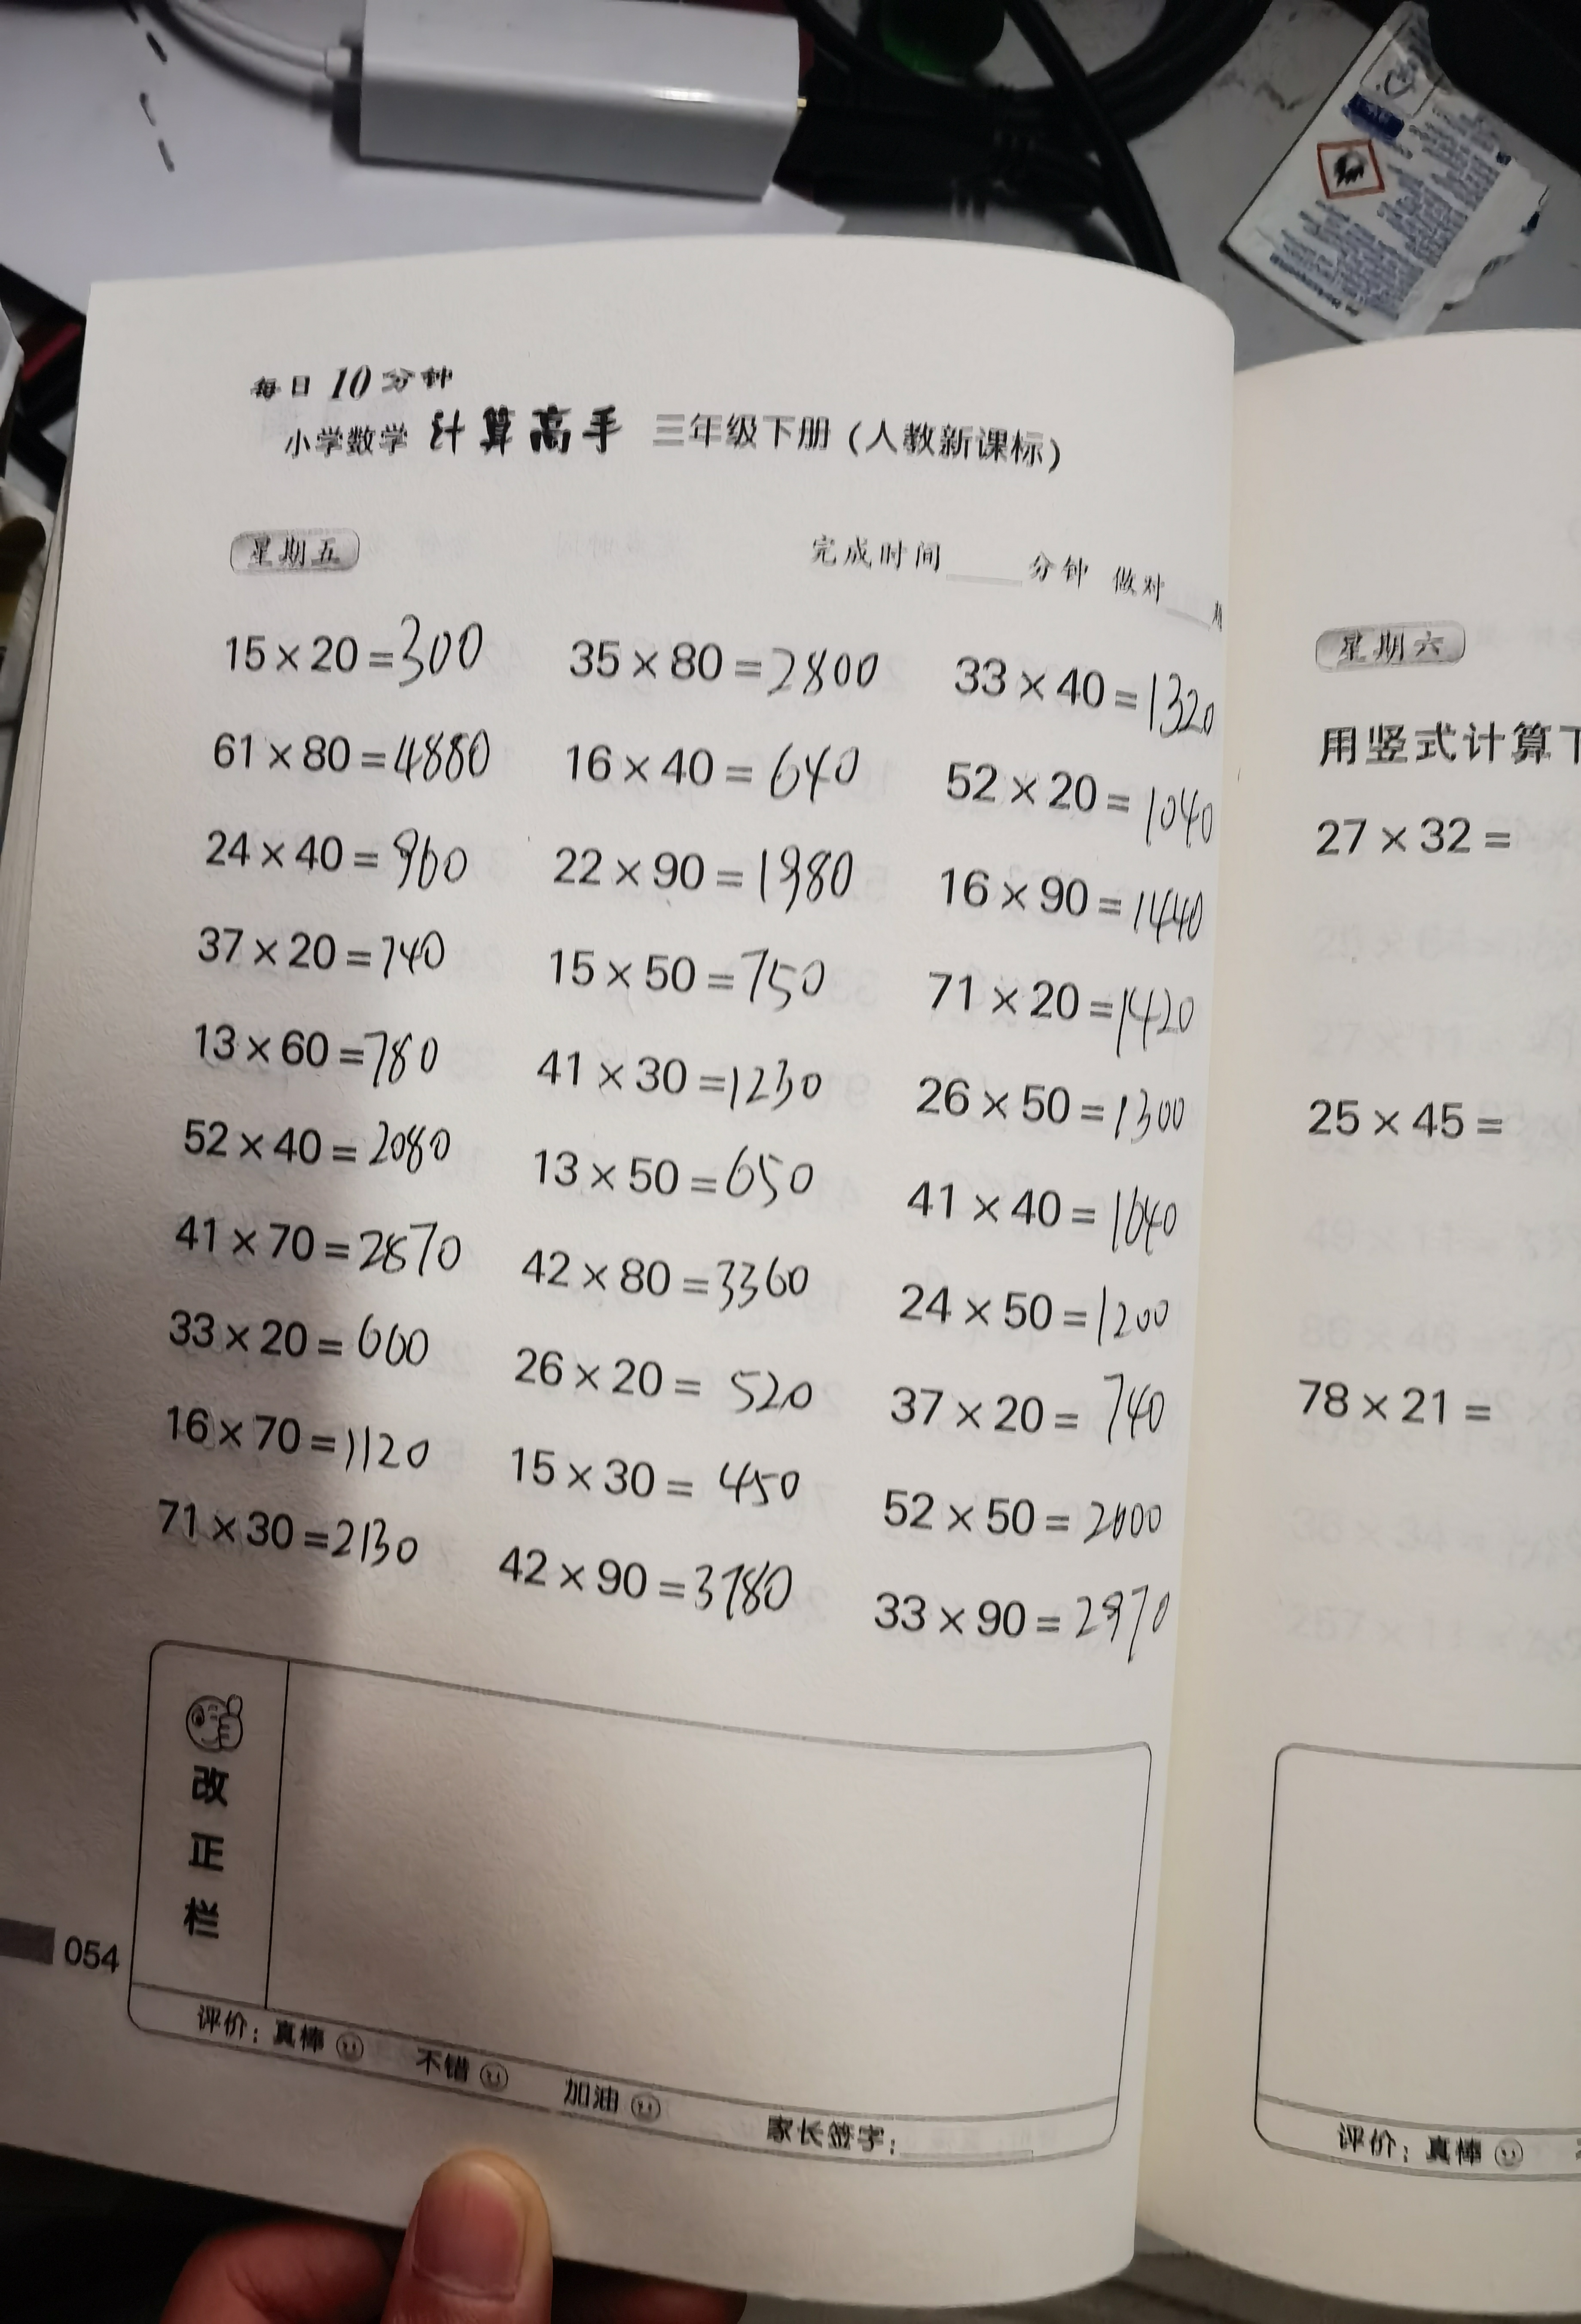equation: (475, 1523, 821, 1645), (943, 622, 1245, 756), (922, 749, 1247, 870), (186, 792, 497, 911), (130, 1456, 444, 1571), (906, 944, 1224, 1057), (549, 607, 898, 710), (556, 713, 881, 820), (535, 920, 853, 1026), (137, 1367, 446, 1475), (506, 1324, 834, 1425), (913, 853, 1250, 951), (852, 1458, 1197, 1552), (527, 1033, 852, 1133), (867, 1358, 1193, 1456), (176, 997, 479, 1102), (896, 1059, 1218, 1157), (858, 1571, 1195, 1664), (510, 1229, 845, 1322), (534, 1136, 845, 1236), (540, 822, 855, 918), (174, 1186, 472, 1287), (183, 896, 499, 985), (174, 1100, 487, 1190), (886, 1179, 1223, 1262), (870, 1270, 1193, 1356), (181, 691, 501, 774), (501, 1432, 807, 1518), (145, 1282, 451, 1367), (212, 605, 506, 691)
